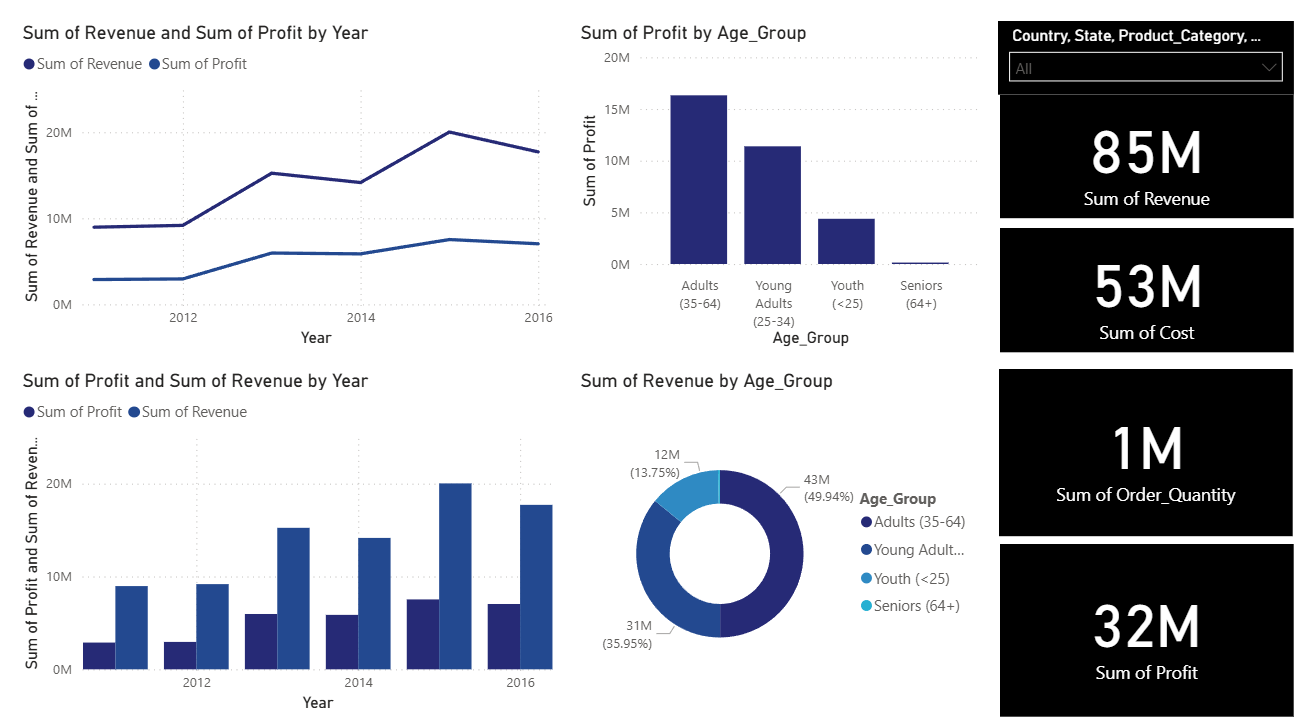

The dashboard page shown, as its layout file describes it:
{"tool":"powerbi","page":{"name":"Page 1","canvas":[1280,720],"ordinal":0},"visuals":[{"type":"lineChart","fields":{"Category":["sales_data.Year"],"Y":["Sum(sales_data.Revenue)","Sum(sales_data.Profit)"]},"box":[15.5,78.2,491.8,300.9],"z":0},{"type":"card","fields":{"Values":["Sum(sales_data.Profit)"]},"box":[909.1,553.6,267.3,157.3],"z":1000},{"type":"card","fields":{"Values":["Sum(sales_data.Revenue)"]},"box":[909.1,145.5,267.3,111.8],"z":2000},{"type":"card","fields":{"Values":["Sum(sales_data.Cost)"]},"box":[909.1,266.4,267.3,112.7],"z":3000},{"type":"slicer","fields":{"Values":["sales_data.Country","sales_data.State","sales_data.Product_Category","sales_data.Month","sales_data.Year"]},"box":[907.3,78.2,269.1,67.3],"z":4000},{"type":"columnChart","fields":{"Category":["sales_data.Age_Group"],"Y":["Sum(sales_data.Profit)"]},"box":[522.7,78.2,373.6,300.9],"z":5000},{"type":"donutChart","fields":{"Category":["sales_data.Age_Group"],"Y":["Sum(sales_data.Revenue)"]},"box":[522.7,394.5,373.6,317.3],"z":6000},{"type":"card","fields":{"Values":["Sum(sales_data.Order_Quantity)"]},"box":[908.2,394.5,267.3,151.8],"z":7000},{"type":"clusteredColumnChart","fields":{"Category":["sales_data.Year"],"Y":["Sum(sales_data.Profit)","Sum(sales_data.Revenue)"]},"box":[15.5,394.5,491.8,316.4],"z":8000},{"type":"textbox","box":[485.5,32.7,242.7,29.1],"z":9000}]}

Visuals, with their boxes in screenshot pixels (x1, y1, x2, y2), scaled from the page's 1280x720 canvas onto the 1302x722 screenshot:
lineChart - sales_data.Year x Sum(sales_data.Revenue): rect(16, 78, 516, 380)
card - Sum(sales_data.Profit): rect(925, 555, 1197, 713)
card - Sum(sales_data.Revenue): rect(925, 146, 1197, 258)
card - Sum(sales_data.Cost): rect(925, 267, 1197, 380)
slicer - sales_data.Country x sales_data.State: rect(923, 78, 1197, 146)
columnChart - sales_data.Age_Group x Sum(sales_data.Profit): rect(532, 78, 912, 380)
donutChart - sales_data.Age_Group x Sum(sales_data.Revenue): rect(532, 396, 912, 714)
card - Sum(sales_data.Order_Quantity): rect(924, 396, 1196, 548)
clusteredColumnChart - sales_data.Year x Sum(sales_data.Profit): rect(16, 396, 516, 713)
textbox: rect(494, 33, 741, 62)
